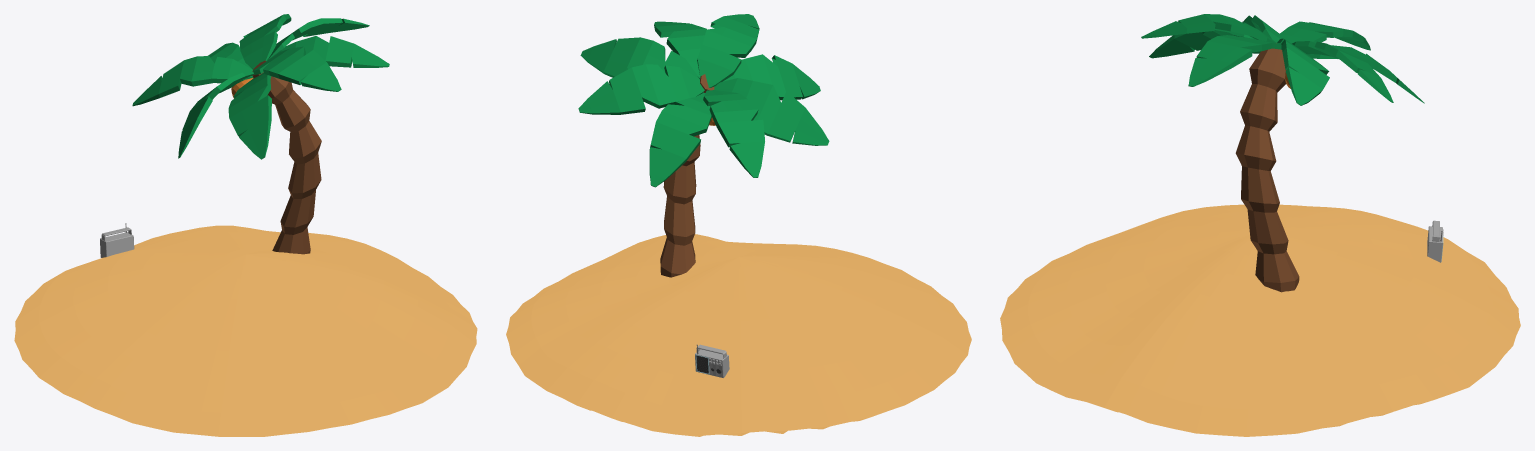
Rendered from island.gltf.
The picture shows the model from 3 angles, left to right: view 1: azimuth 30°, elevation 25°; view 2: azimuth 150°, elevation 25°; view 3: azimuth 270°, elevation 25°; orthographic projection. The views are drawn at different scales.
Visible parts, largest first — view 1: Island, PalmTree, Radio; view 2: Island, PalmTree, Radio; view 3: Island, PalmTree, Radio.
Part boxes in pixels (bbox=[...]): Island: bbox=[14, 225, 477, 436]; PalmTree: bbox=[132, 14, 389, 254]; Radio: bbox=[100, 223, 134, 257]; Island: bbox=[506, 234, 971, 436]; PalmTree: bbox=[578, 14, 829, 277]; Radio: bbox=[695, 344, 729, 377]; Island: bbox=[1000, 204, 1520, 436]; PalmTree: bbox=[1141, 14, 1424, 292]; Radio: bbox=[1427, 220, 1443, 262].
Bounding box in the file's own units: 3.2 × 2.32 × 3.2.
